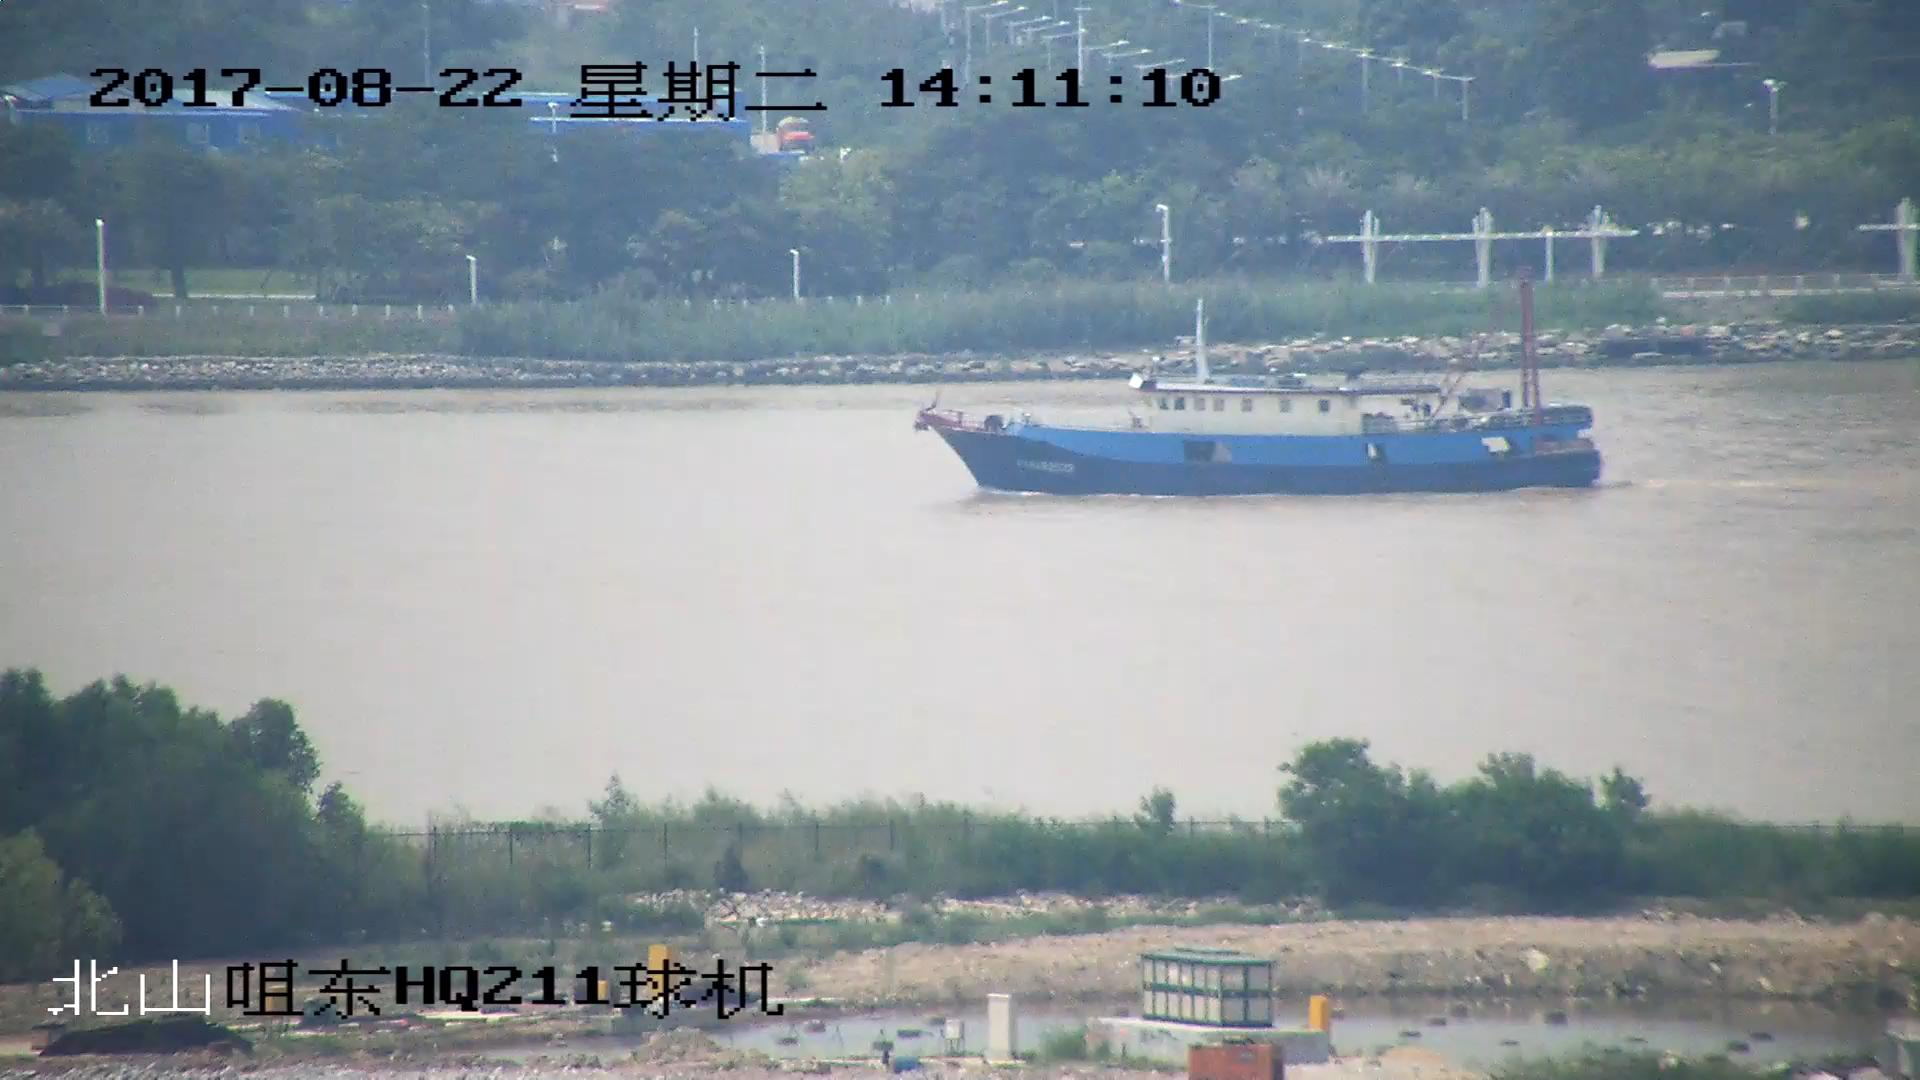fishing boat: (918, 269, 1604, 496)
